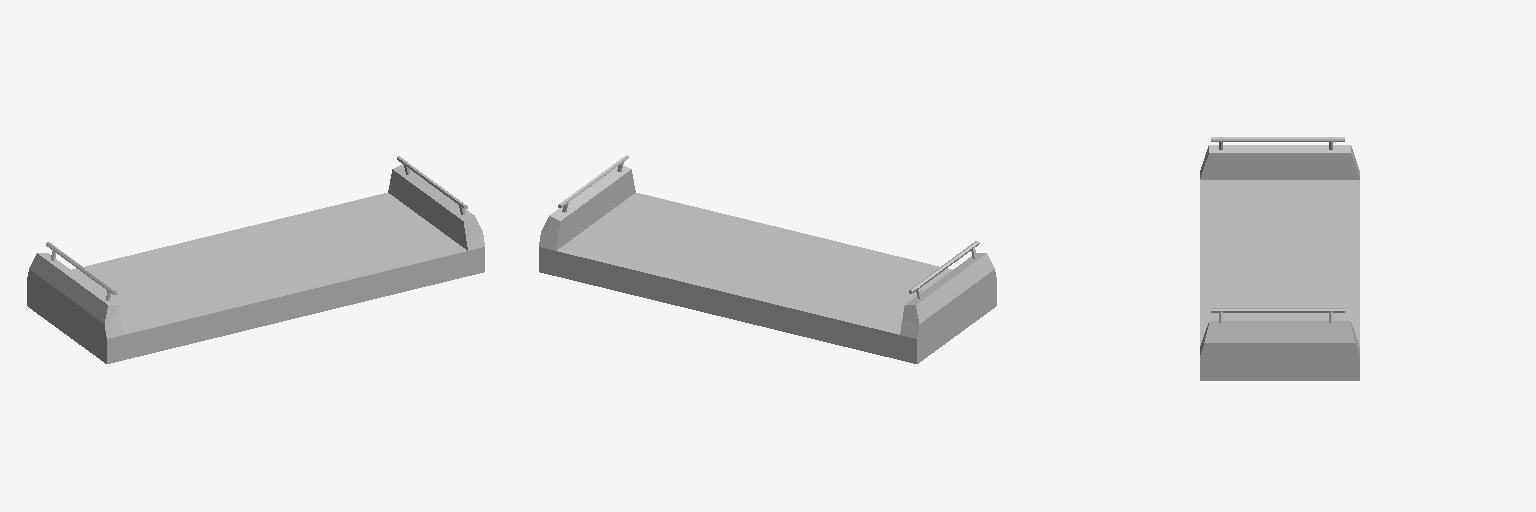
File: bridgeSimple.obj
3 renders of one model, left to right at view 1: azimuth 30°, elevation 25°; view 2: azimuth 150°, elevation 25°; view 3: azimuth 270°, elevation 25°, orthographic.
Visible parts, largest first — view 1: bridge_simple01; view 2: bridge_simple01; view 3: bridge_simple01.
Boxes of the visible parts, x1,y1,x2,y2 form: bridge_simple01: [27, 156, 484, 363]; bridge_simple01: [539, 155, 996, 363]; bridge_simple01: [1200, 137, 1359, 380].
Size of the model in its own units: 315 by 52.55 by 115.